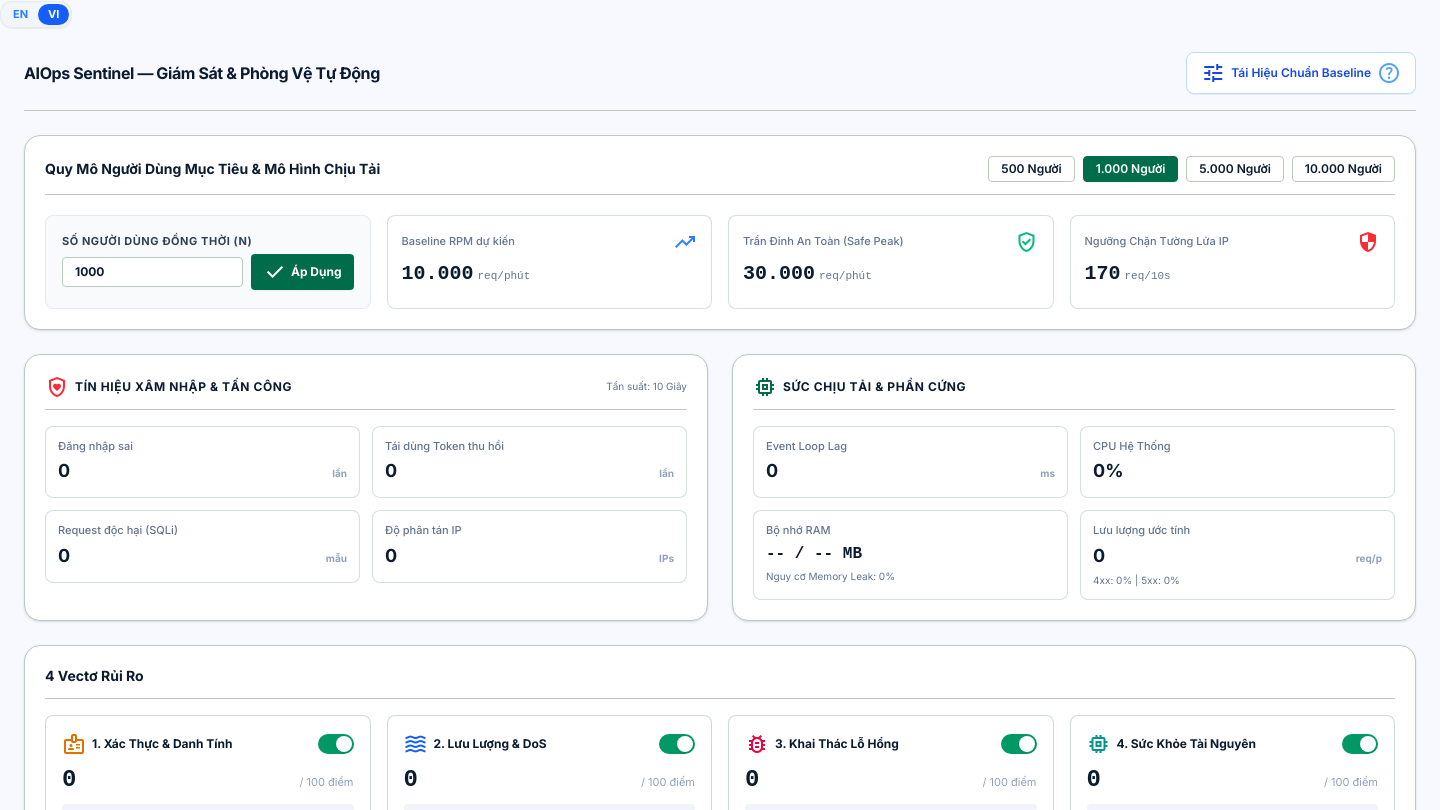
Test: Admin-web Phase 3 i18n Suite — System & Operations Pages (2-Tier Testing) › 5. AIOpsPage i18n Verification › 7.2. Tái hiệu chuẩn Baseline theo phần cứng thực tế và hiển thị modal
Click the text "Tái Hiệu Chuẩn Baseline".
click(1301, 72)  # box [1231, 64, 1371, 80]
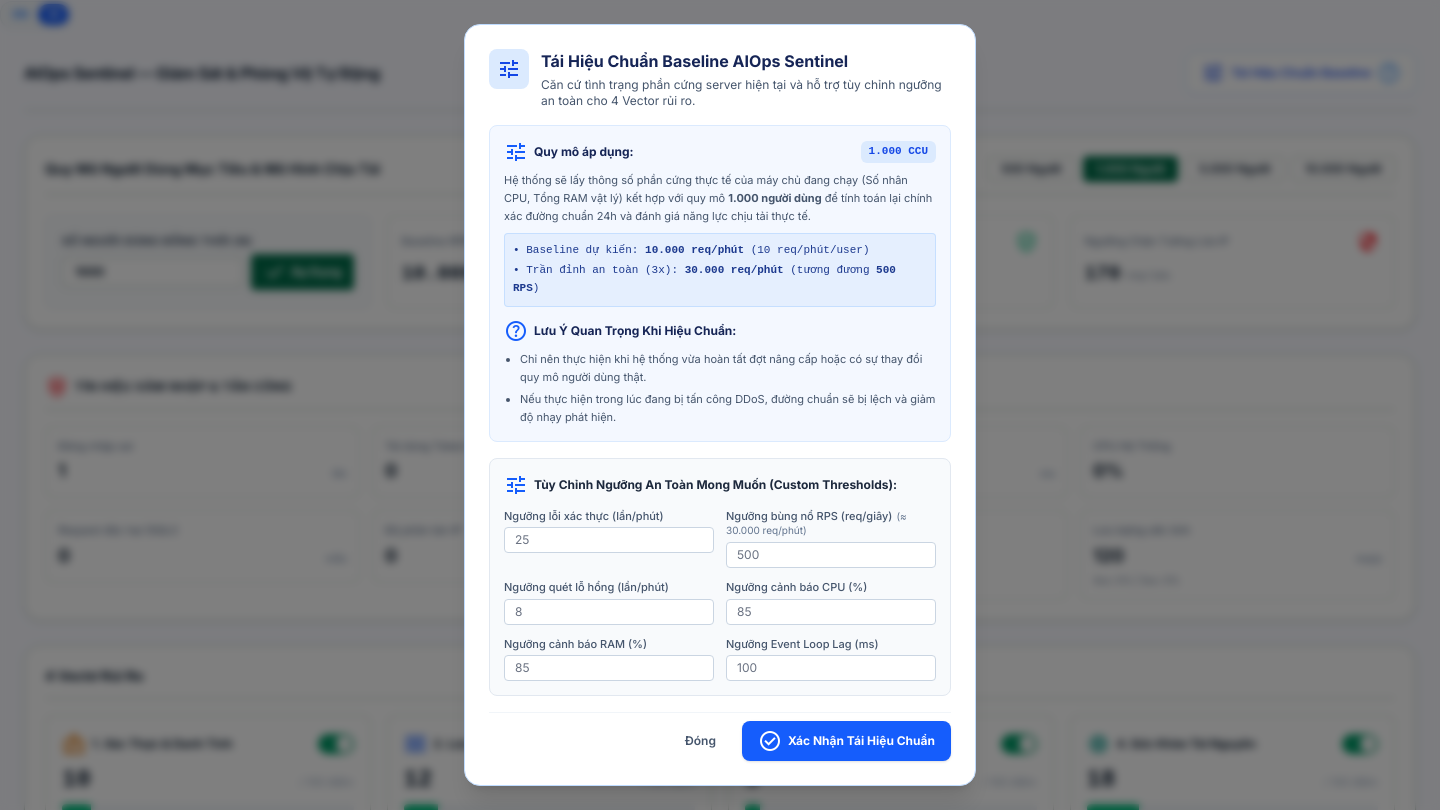
expect the heading "Tái Hiệu Chuẩn Baseline AIOps Sentinel" is shown: met, box [541, 51, 848, 71]
expect the text "Quy mô áp dụng:" is shown: met, box [534, 142, 634, 162]
